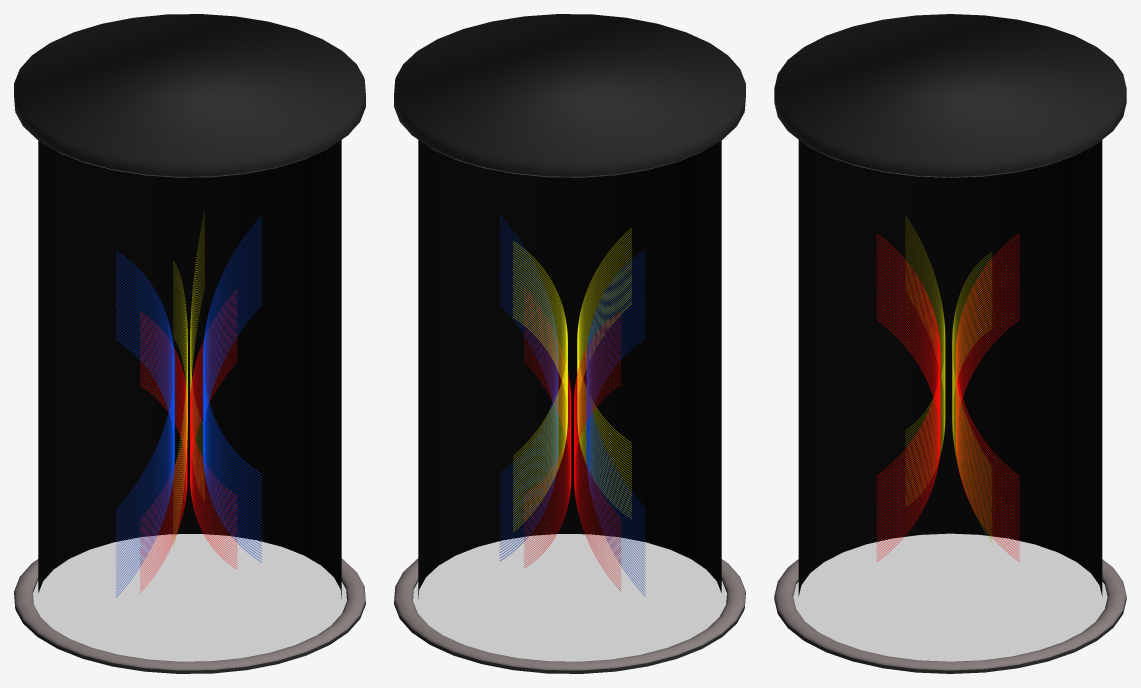
The model's file is uxart_mc_entyre.glb.
3 renders of one model, left to right at view 1: azimuth 30°, elevation 25°; view 2: azimuth 150°, elevation 25°; view 3: azimuth 270°, elevation 25°, orthographic.
Parts seen in each view (by area): view 1: Cylinder.104, Blue, Red, Yellow; view 2: Cylinder.104, Blue, Yellow, Red; view 3: Cylinder.104, Red_2, Yellow.
Part boxes in pixels (<box>): Cylinder.104: <box>14,14,365,673</box>; Blue: <box>116,216,261,597</box>; Red: <box>140,289,237,592</box>; Yellow: <box>173,213,204,548</box>; Cylinder.104: <box>394,14,745,673</box>; Blue: <box>499,215,645,596</box>; Yellow: <box>513,228,631,531</box>; Red: <box>524,288,621,591</box>; Cylinder.104: <box>774,14,1126,673</box>; Red_2: <box>876,234,1019,561</box>; Yellow: <box>905,216,992,542</box>.
Size of what is drawn, in the model's own units: 4.22 by 6.76 by 4.22.
4 materials, 4 textured.
